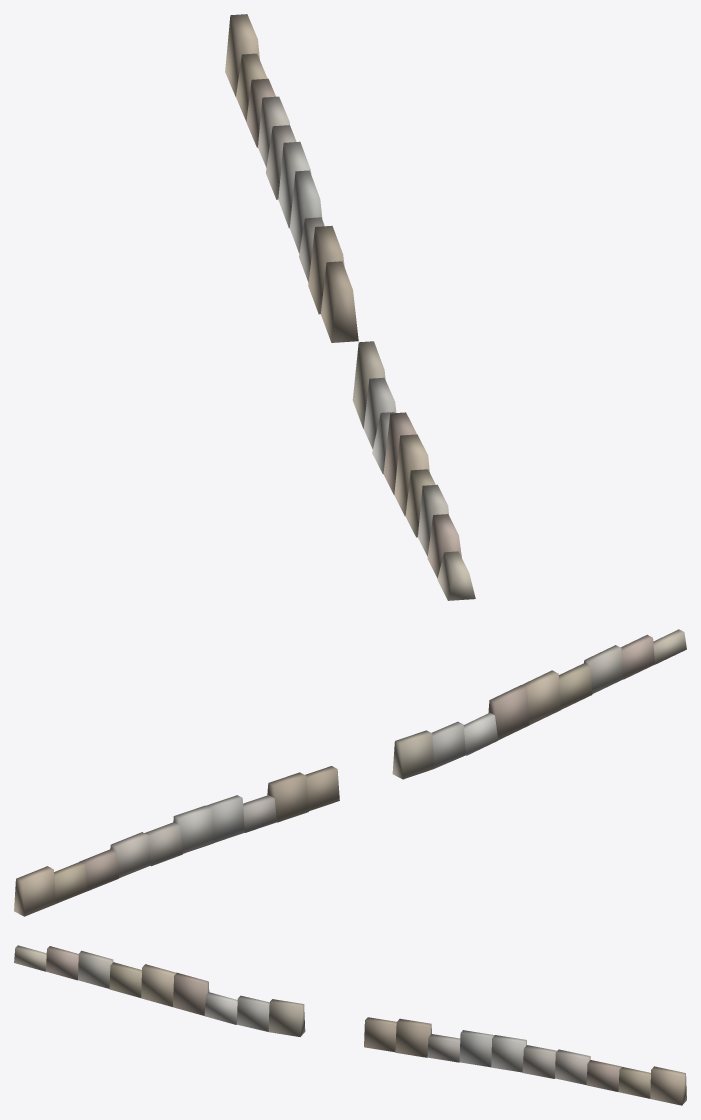
The model's file is farm_-34_-25_collision.glb.
The picture shows the model from 3 angles, top to bottom: view 1: azimuth 30°, elevation 25°; view 2: azimuth 150°, elevation 25°; view 3: azimuth 270°, elevation 25°; orthographic projection. The views are drawn at different scales.
Parts seen in each view (by area): view 1: geometry_0; view 2: geometry_0; view 3: geometry_0.
Boxes of the visible parts, x1,y1,x2,y2 form: geometry_0: [225, 14, 475, 600]; geometry_0: [14, 629, 686, 916]; geometry_0: [14, 945, 686, 1105].
Bounding box in the file's own units: 12.65 × 2.72 × 31.55.
